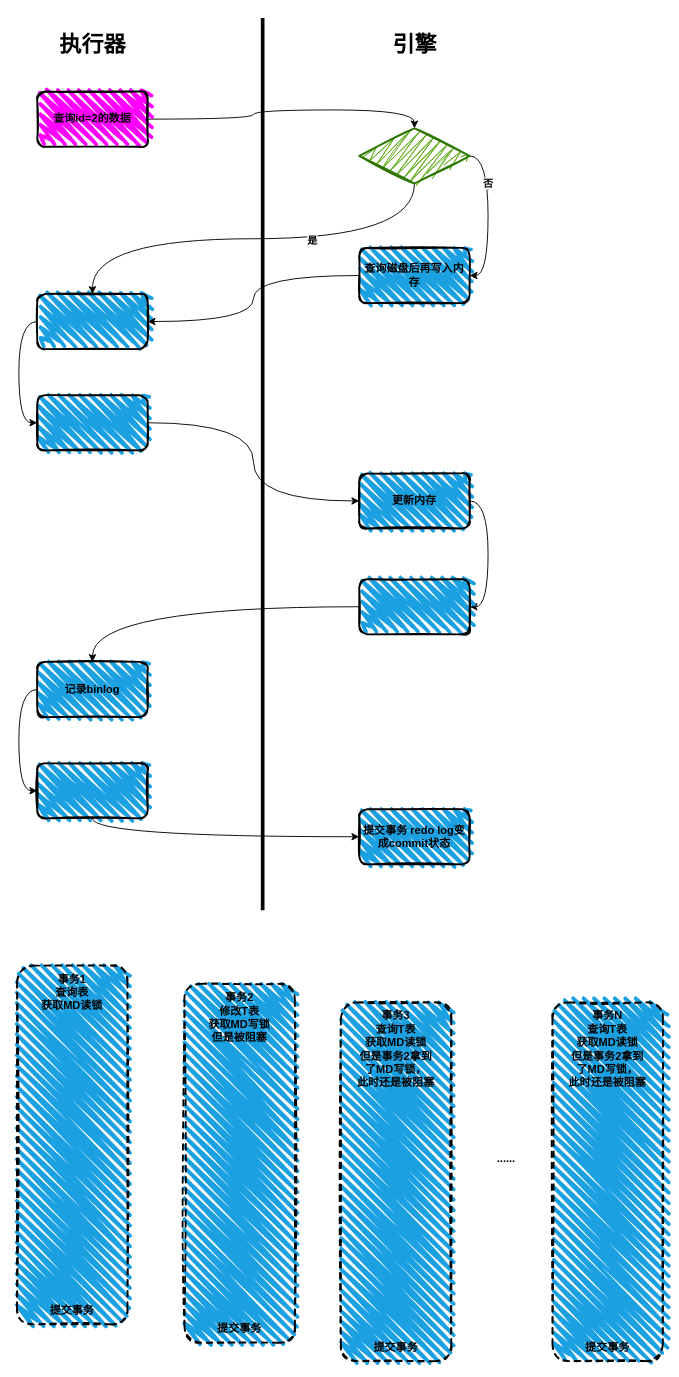
Some shapes in this 679 by 1377 pixel diagram are drawn without their labels. The centre of each missing label's shape, as x and y in pixels:
内存中是否存在: point 414,155
更新这行数据: point 92,321
记录redo log(prepare状态）: point 414,606
调用引擎接口写会回新数据: point 92,422
调用引擎提交事务接口: point 92,790
